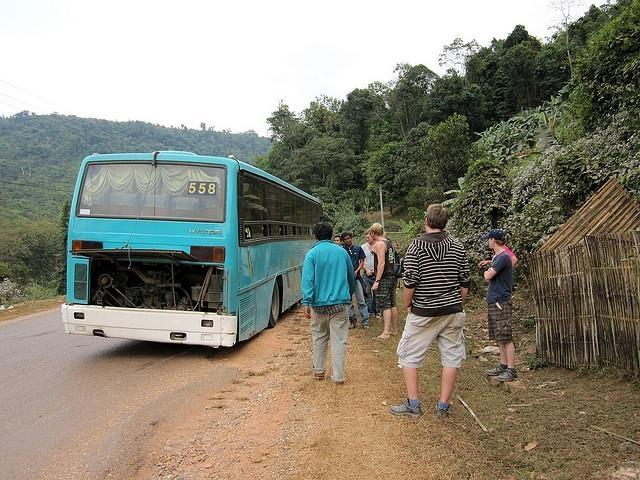bus: (60, 157, 322, 353)
